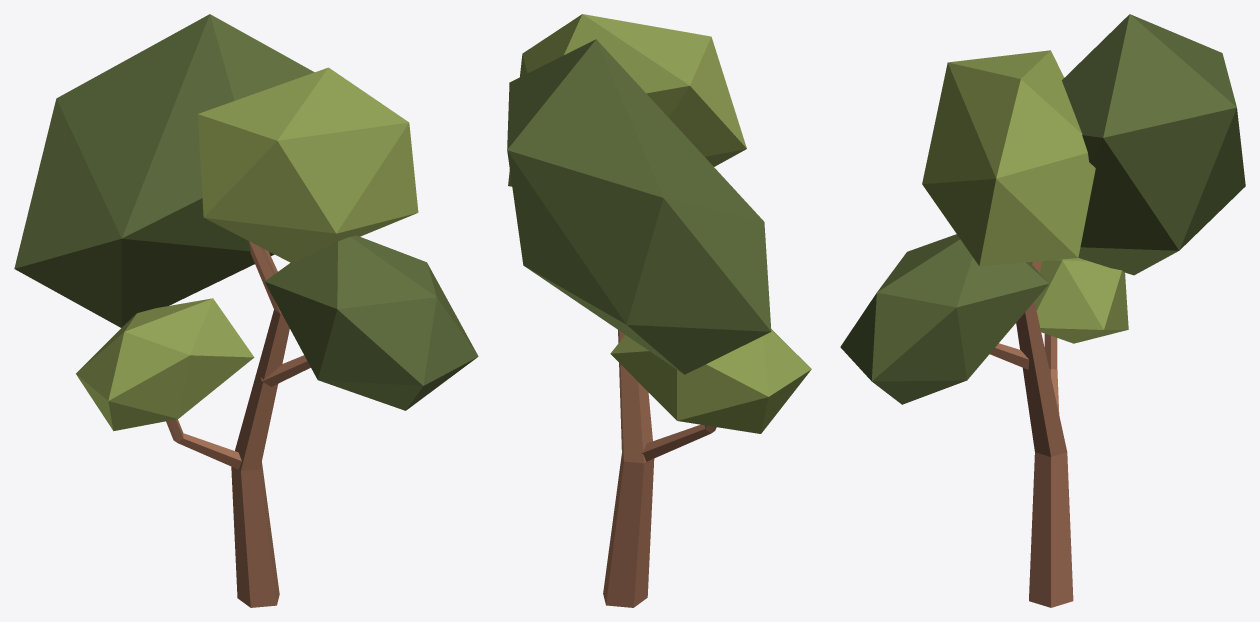
File: Tree.obj
3 views of the same model, side by side, from view 1: azimuth 30°, elevation 25°; view 2: azimuth 150°, elevation 25°; view 3: azimuth 270°, elevation 25° (orthographic). The views are drawn at different scales.
Parts seen in each view (by area): view 1: Tree; view 2: Tree; view 3: Tree.
Boxes of the visible parts, x1,y1,x2,y2 form: Tree: (14,14,478,607); Tree: (507,14,811,607); Tree: (840,14,1245,607).
Size of the model in its own units: 0.6058 by 1 by 0.6359.
Materials: 1 (1 with a texture image).
